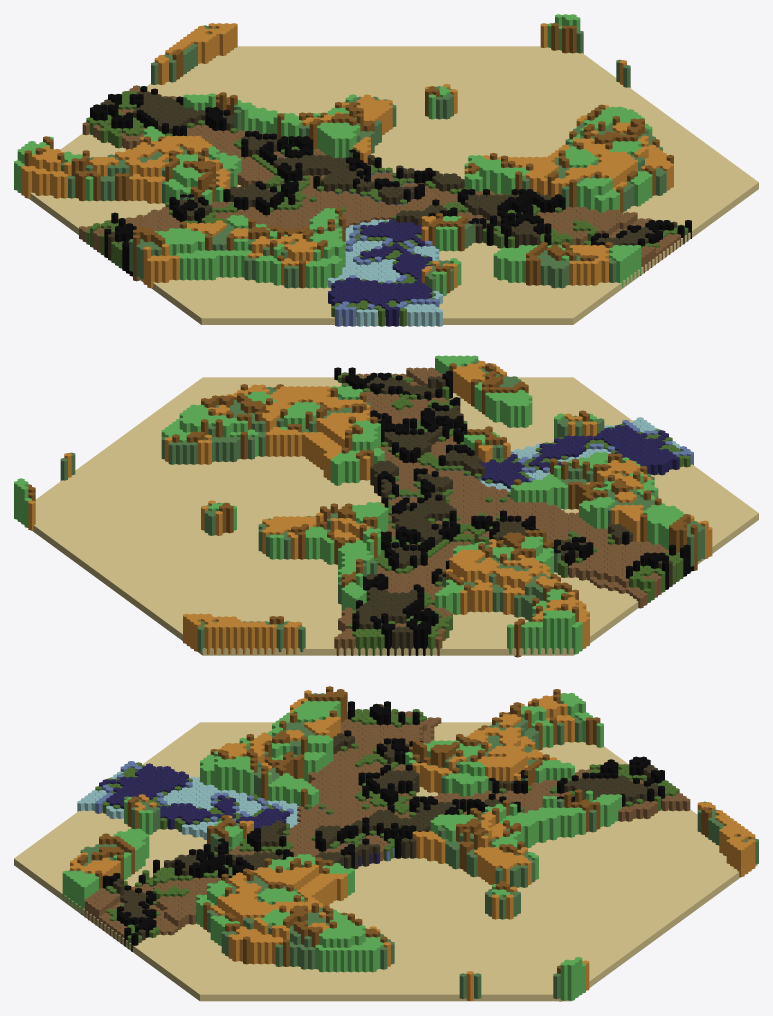
File: 0040_tile_1011221.fbx
3 views of the same model, one above another, from view 1: azimuth 30°, elevation 25°; view 2: azimuth 150°, elevation 25°; view 3: azimuth 270°, elevation 25° (orthographic).
Parts seen in each view (by area): view 1: Plane; view 2: Plane; view 3: Plane.
Part boxes in pixels (box(x1,y1,x2,y2)): Plane: box(14, 14, 758, 326); Plane: box(14, 355, 758, 657); Plane: box(14, 686, 758, 1001).
Bounding box in the file's own units: 1008 × 73.65 × 1152.
